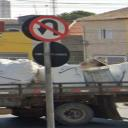NoVirarU: (30, 15, 70, 43)
